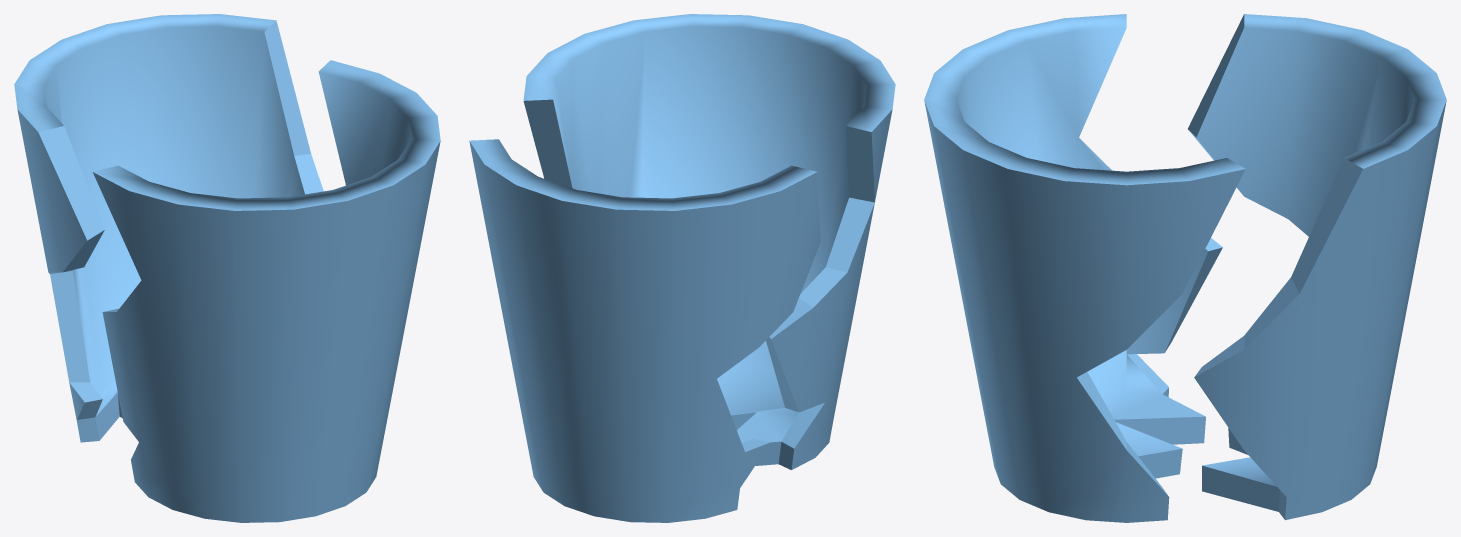
The model's file is glassshattered.fbx.
The picture shows the model from 3 angles, left to right: view 1: azimuth 30°, elevation 25°; view 2: azimuth 150°, elevation 25°; view 3: azimuth 270°, elevation 25°; orthographic projection. The views are drawn at different scales.
Visible parts, largest first — view 1: pasted__pCylinder2; view 2: pasted__pCylinder2; view 3: pasted__pCylinder2.
Part boxes in pixels (x1,y1,x2,y2): pasted__pCylinder2: [14, 14, 440, 522]; pasted__pCylinder2: [469, 14, 895, 522]; pasted__pCylinder2: [924, 14, 1446, 522].
Bounding box in the file's own units: 2 × 2 × 2.58.
